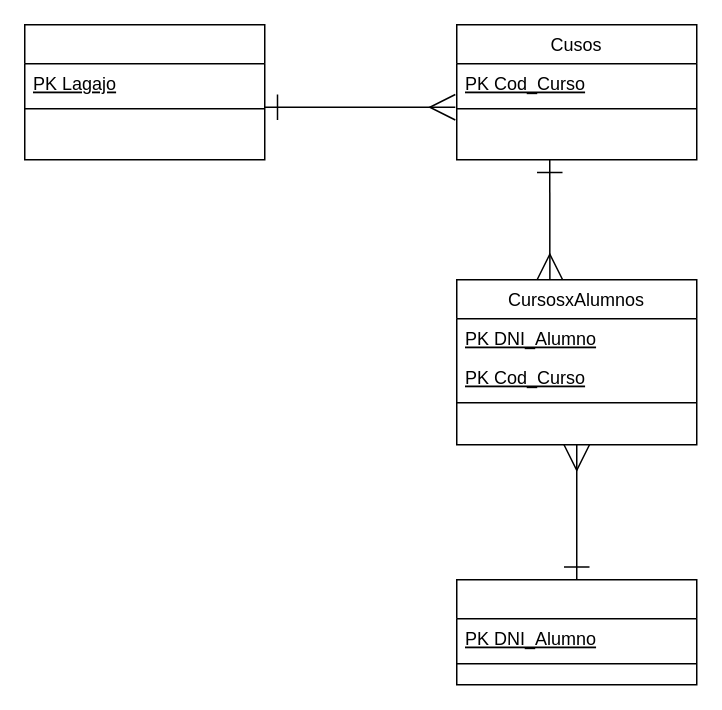
Some shapes in this 722 by 710 pixel diagram are drawn without their labels. Here are the shapes that lost their labels. From the top down, the box of each, then its label:
(23, 23, 265, 160): Profesores
(455, 578, 697, 685): Alumnos
